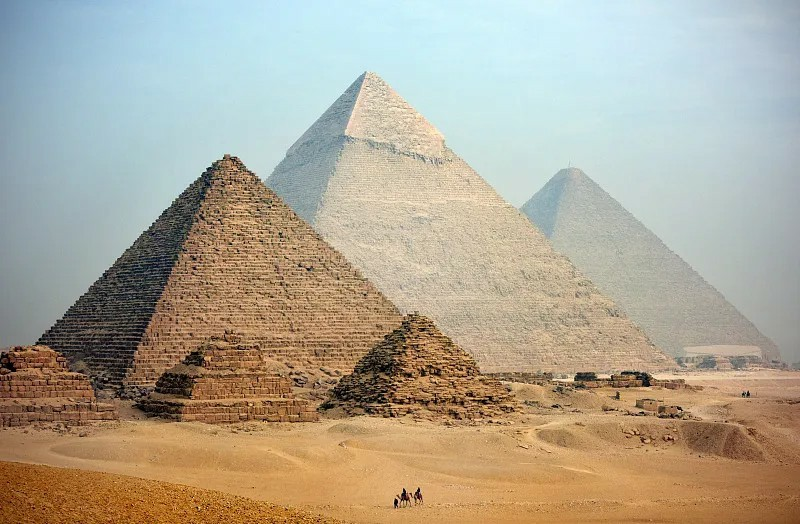Pyramid: (264, 72, 683, 374), (34, 156, 406, 399), (520, 168, 784, 368), (329, 313, 525, 419), (135, 329, 320, 424), (1, 345, 122, 433)
